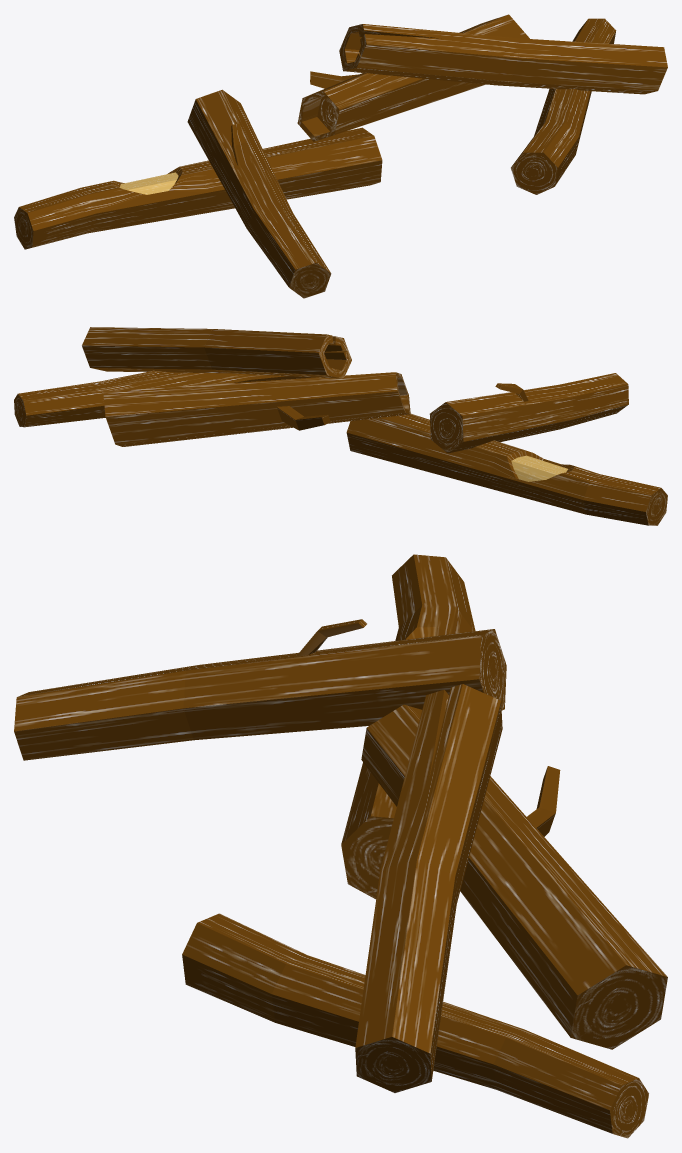
The model's file is Troncos.obj.
3 views of the same model, one above another, from view 1: azimuth 30°, elevation 25°; view 2: azimuth 150°, elevation 25°; view 3: azimuth 270°, elevation 25° (orthographic). The views are drawn at different scales.
Visible parts, largest first — view 1: troncos.002; view 2: troncos.002; view 3: troncos.002.
Boxes of the visible parts, box(x1,y1,x2,y2) form: troncos.002: box(14, 14, 667, 298); troncos.002: box(14, 327, 667, 525); troncos.002: box(14, 554, 667, 1138).
Size of the model in its own units: 26.7 by 5.54 by 14.05.
Materials: 1 (1 with a texture image).
